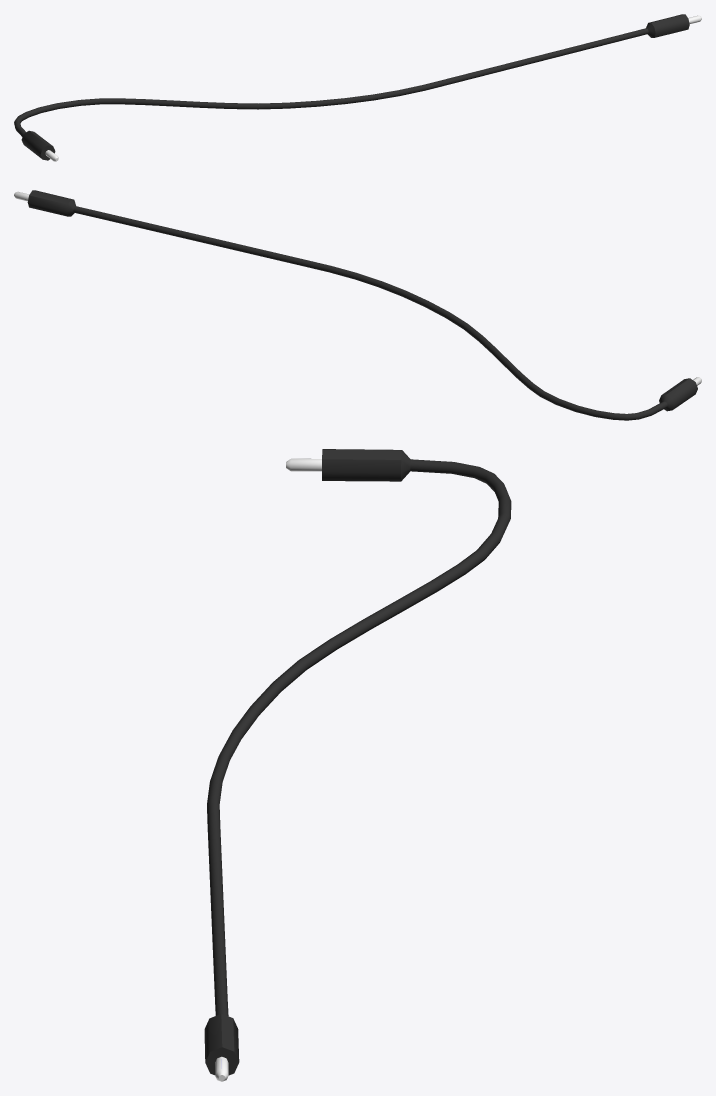
File: ElectroWires08_2.FBX
3 views of the same model, one above another, from view 1: azimuth 30°, elevation 25°; view 2: azimuth 150°, elevation 25°; view 3: azimuth 270°, elevation 25° (orthographic). The views are drawn at different scales.
Visible parts, largest first — view 1: Wires08; view 2: Wires08; view 3: Wires08.
Part boxes in pixels (x1,y1,x2,y2): Wires08: (14,14,701,161); Wires08: (14,190,701,420); Wires08: (204,449,511,1081).
Bounding box in the file's own units: 119 × 2.77 × 24.96.
